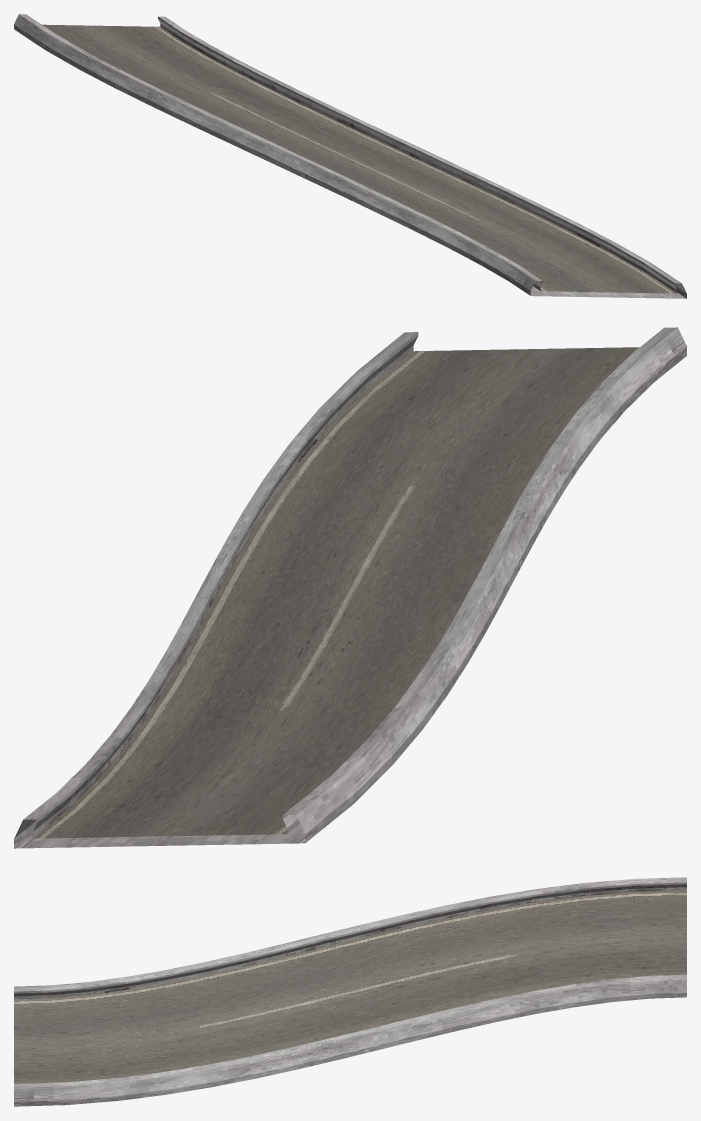
Rendered from road-Chicane-HalfBankedRight-HalfBankedRight-Up1-Left1-Size4.glb.
3 renders of one model, top to bottom at view 1: azimuth 30°, elevation 25°; view 2: azimuth 150°, elevation 25°; view 3: azimuth 270°, elevation 25°, orthographic. The views are drawn at different scales.
Parts seen in each view (by area): view 1: road-Chicane-HalfBankedRight-HalfBankedRight-Up1-Left1-Size4; view 2: road-Chicane-HalfBankedRight-HalfBankedRight-Up1-Left1-Size4; view 3: road-Chicane-HalfBankedRight-HalfBankedRight-Up1-Left1-Size4.
Boxes of the visible parts, <box> form: road-Chicane-HalfBankedRight-HalfBankedRight-Up1-Left1-Size4: <box>14,14,686,298</box>; road-Chicane-HalfBankedRight-HalfBankedRight-Up1-Left1-Size4: <box>14,327,686,848</box>; road-Chicane-HalfBankedRight-HalfBankedRight-Up1-Left1-Size4: <box>14,877,686,1106</box>.
Size of the model in its own units: 2 by 0.5859 by 4.
Materials: 2 (2 with a texture image).
